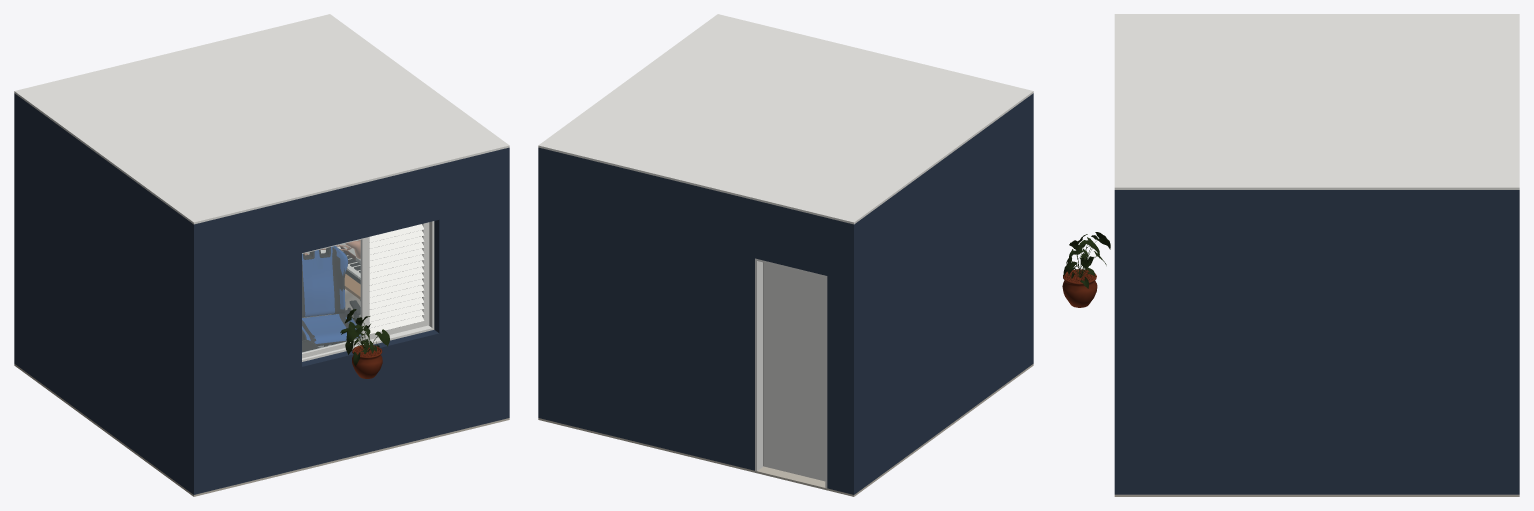
File: room.glb
3 views of the same model, side by side, from view 1: azimuth 30°, elevation 25°; view 2: azimuth 150°, elevation 25°; view 3: azimuth 270°, elevation 25° (orthographic). The views are drawn at different scales.
Parts seen in each view (by area): view 1: wall2, ceiling, wall4, window, chair, wall3, balcony_plant, wall1, floor; view 2: wall1, ceiling, wall4, door, wall3, wall2, floor; view 3: wall3, ceiling, wall2, wall1, balcony_plant, floor.
Boxes of the visible parts, <box> form: wall2: <box>182,148,509,494</box>; ceiling: <box>14,14,509,224</box>; wall4: <box>14,93,208,494</box>; window: <box>302,221,434,361</box>; chair: <box>302,246,360,346</box>; wall3: <box>495,148,509,420</box>; balcony_plant: <box>340,309,389,378</box>; wall1: <box>14,106,22,368</box>; floor: <box>14,364,509,496</box>; wall1: <box>538,148,862,494</box>; ceiling: <box>538,14,1033,224</box>; wall4: <box>839,101,1033,494</box>; door: <box>755,258,827,488</box>; wall3: <box>538,148,552,419</box>; wall2: <box>1022,93,1033,371</box>; floor: <box>538,364,1033,496</box>; wall3: <box>1114,190,1519,494</box>; ceiling: <box>1114,14,1519,189</box>; wall2: <box>1114,190,1139,494</box>; wall1: <box>1501,190,1519,494</box>; balcony_plant: <box>1062,232,1110,307</box>; floor: <box>1114,494,1519,496</box>.
Bounding box in the file's own units: 3.3 × 2.74 × 3.67.
